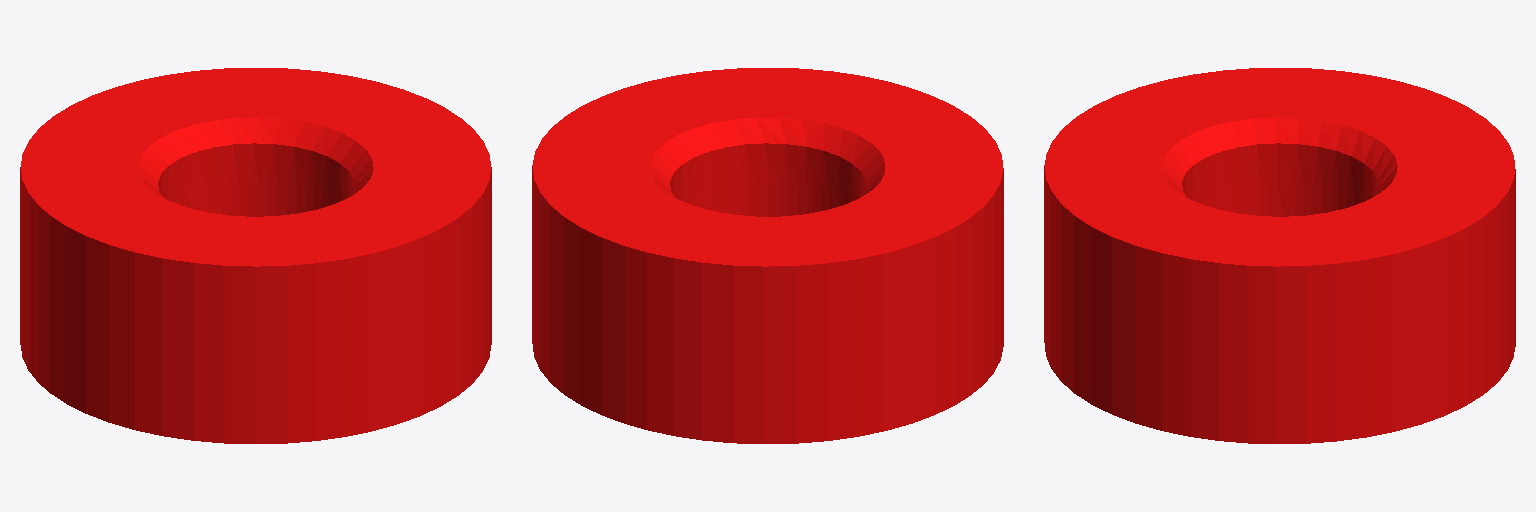
URDF robot description (hole_object.urdf):
<?xml version="1.0"?>

<robot name="hole_object.urdf">
  <link name="base">
    <inertial>
      <origin rpy="0 0 0" xyz="0 0 0"/>
      <mass value="0.0"/>
      <inertia ixx="0.05" ixy="0" ixz="0" iyy="0.06" iyz="0" izz="0.03"/>
    </inertial>
  </link>

  <joint name="empty" type="fixed">
    <parent link="base"/>
    <child link="box"/>
  </joint>

  <link name="box">
    <inertial>
      <origin rpy="0 0 0" xyz="0 0 0"/>
      <mass value="0"/>
      <inertia ixx="0.001" ixy="0" ixz="0" iyy="0.001" iyz="0" izz="0.001"/>
    </inertial>
     
     <visual>
      <origin rpy="0 0 0" xyz="0 0 0"/>
      <geometry>
        <mesh filename="../../meshes/objects/hole_object.obj" scale="0.001 0.001 0.001"/>
      </geometry>
      <material name="red">
        <color rgba="1.0 0.1 0.1 1"/>
      </material>
    </visual>
    
    <collision concave="yes">
      <origin rpy="0 0 0" xyz="0 0 0"/>
      <geometry>
           <mesh filename="../../meshes/objects/hole_object.obj" scale="0.001 0.001 0.001"/>
      </geometry>
    </collision>
  </link>
</robot>    

--- What the picture shows (computed from the rendered views, not written in the file) ---
The picture shows the robot from 3 angles, left to right: view 1: azimuth 30°, elevation 25°; view 2: azimuth 150°, elevation 25°; view 3: azimuth 270°, elevation 25°; orthographic projection.
Model hole_object.urdf with 2 links and 1 joints (1 fixed), rooted at base, posed all joints at 0.
Visible links, largest first — view 1: box; view 2: box; view 3: box.
Boxes of the visible links, x1,y1,x2,y2 form: box: (20,68,491,443); box: (532,68,1003,443); box: (1044,68,1515,443).
Size in the robot's own frame: 0.12 by 0.12 by 0.05 metres.
Meshes: 1 distinct files referenced, 1 mesh visuals loaded (1 OBJ).